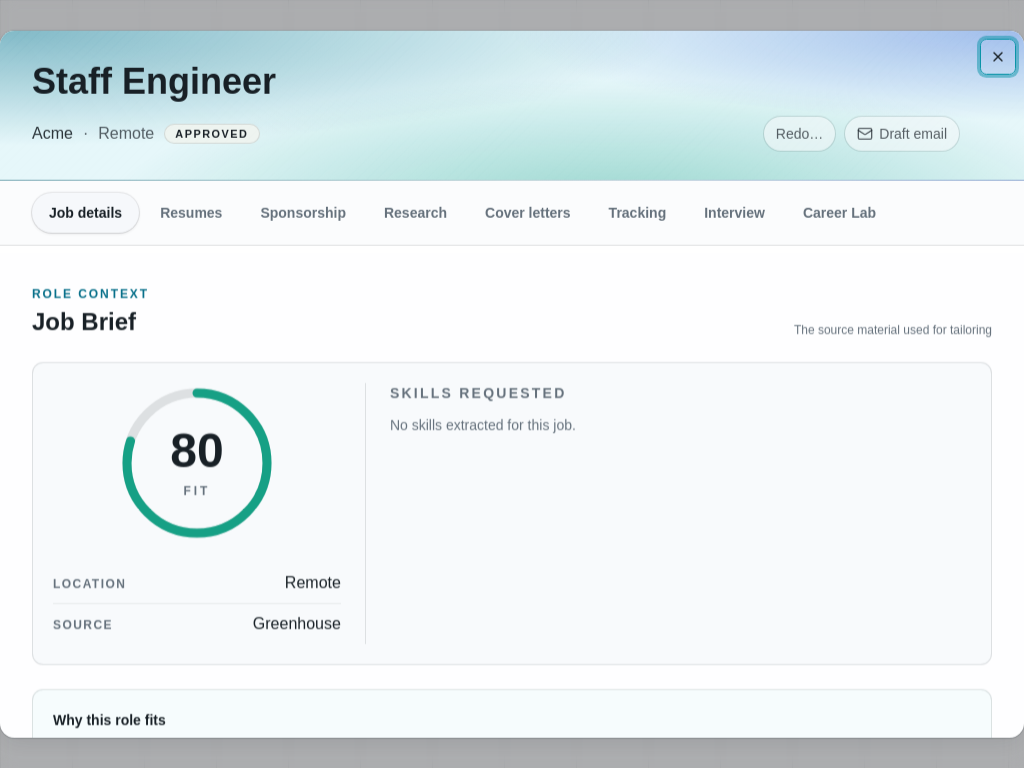
Test case: JobModal › opens redo for the single job it is showing
Check: the heading "Staff Engineer" is shown, box [32,61,276,102]
Click the button "Redo…".
click(800, 134)  # box [763,116,836,152]
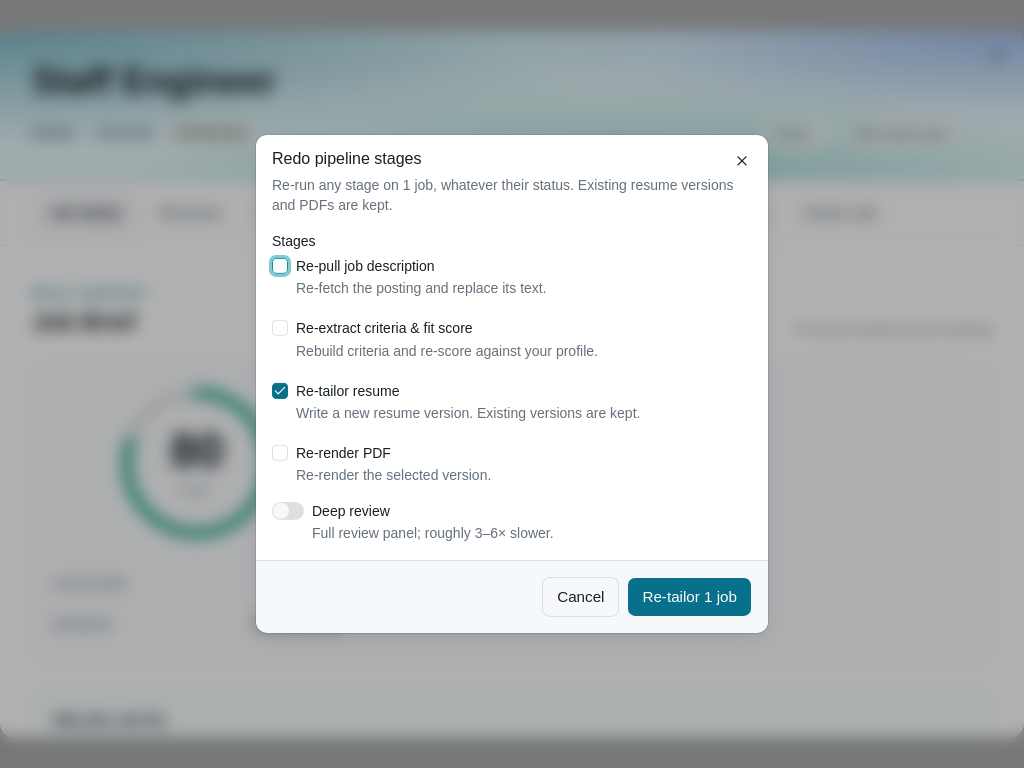
Check: the button "Re-tailor 1 job" is enabled, box [628,577,752,617]
